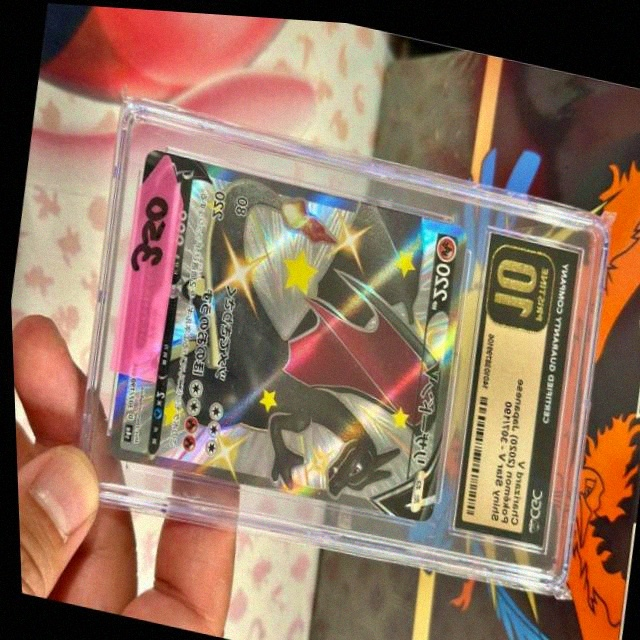card: (104, 147, 466, 517)
